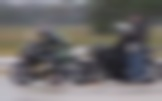Vehicle: (12, 41, 90, 86), (90, 43, 160, 83)
